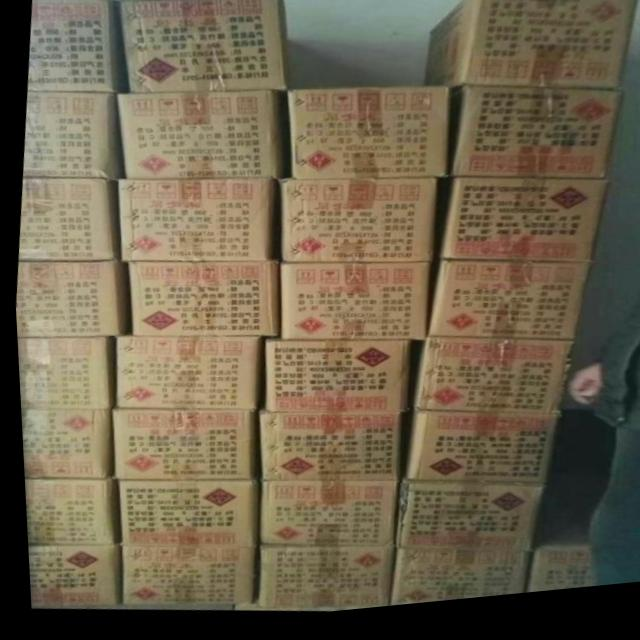box: (422, 0, 639, 101), (446, 94, 622, 189), (117, 0, 288, 96), (439, 185, 602, 275), (113, 95, 271, 183), (288, 97, 444, 186), (407, 343, 569, 426), (423, 268, 585, 350), (277, 185, 432, 270), (115, 181, 266, 266), (276, 269, 427, 348), (124, 263, 272, 342), (399, 419, 551, 495), (388, 489, 539, 564), (110, 338, 257, 414), (105, 410, 249, 485), (259, 346, 401, 418), (254, 416, 394, 488), (112, 481, 252, 551), (253, 486, 392, 553), (20, 90, 118, 180), (250, 553, 383, 617), (26, 0, 115, 95), (15, 177, 114, 262), (115, 547, 248, 609), (381, 555, 523, 613), (12, 261, 115, 338), (14, 336, 107, 410), (17, 407, 104, 481), (22, 544, 112, 610), (20, 479, 107, 546), (517, 556, 583, 603)
